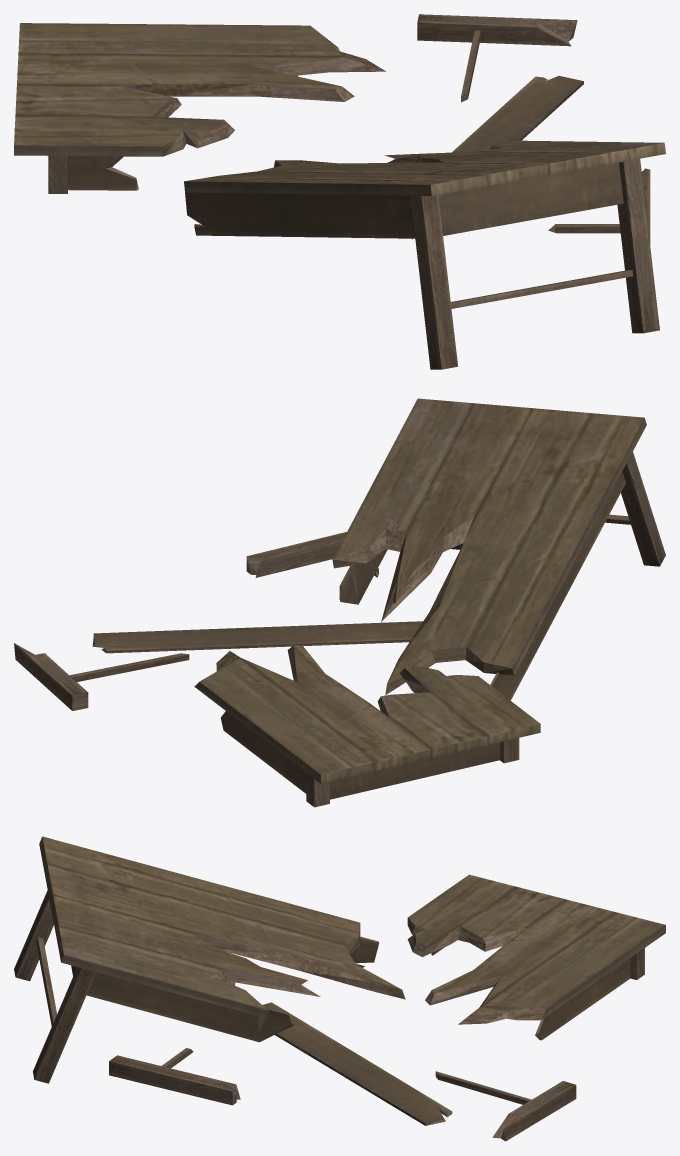
Rendered from bg_lut_lucastle_table05_02_sm_khg.FBX.
3 views of the same model, one above another, from view 1: azimuth 30°, elevation 25°; view 2: azimuth 150°, elevation 25°; view 3: azimuth 270°, elevation 25° (orthographic). The views are drawn at different scales.
Parts seen in each view (by area): view 1: bg_lut_lucastle_table05_02_sm_khg; view 2: bg_lut_lucastle_table05_02_sm_khg; view 3: bg_lut_lucastle_table05_02_sm_khg.
Boxes of the visible parts, x1=… form: bg_lut_lucastle_table05_02_sm_khg: x1=14, y1=14, x2=665, y2=369; bg_lut_lucastle_table05_02_sm_khg: x1=14, y1=398, x2=665, y2=807; bg_lut_lucastle_table05_02_sm_khg: x1=14, y1=836, x2=665, y2=1141.
Size of the model in its own units: 192 by 63.57 by 233.
